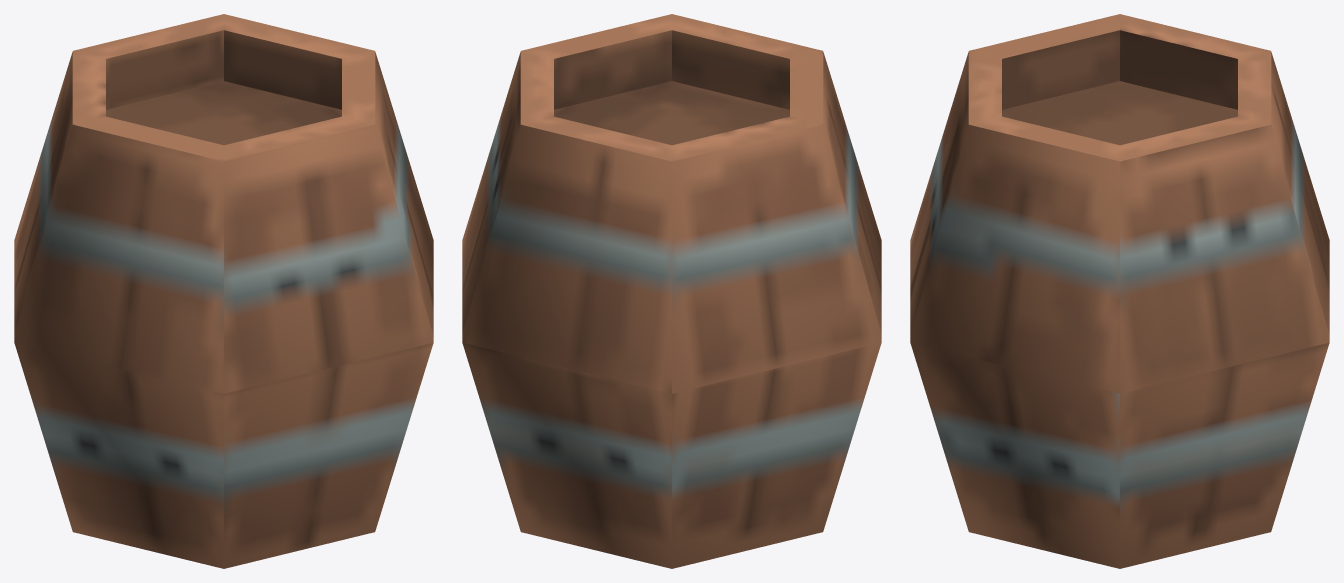
The model's file is SM_Barril.FBX.
The picture shows the model from 3 angles, left to right: view 1: azimuth 30°, elevation 25°; view 2: azimuth 150°, elevation 25°; view 3: azimuth 270°, elevation 25°; orthographic projection.
Parts seen in each view (by area): view 1: Cylinder003; view 2: Cylinder003; view 3: Cylinder003.
Part boxes in pixels (left/top/right/bottom): Cylinder003: left=14, top=14, right=433, bottom=568; Cylinder003: left=462, top=14, right=881, bottom=568; Cylinder003: left=910, top=14, right=1329, bottom=568.
Bounding box in the file's own units: 14.52 × 13.48 × 12.58.
